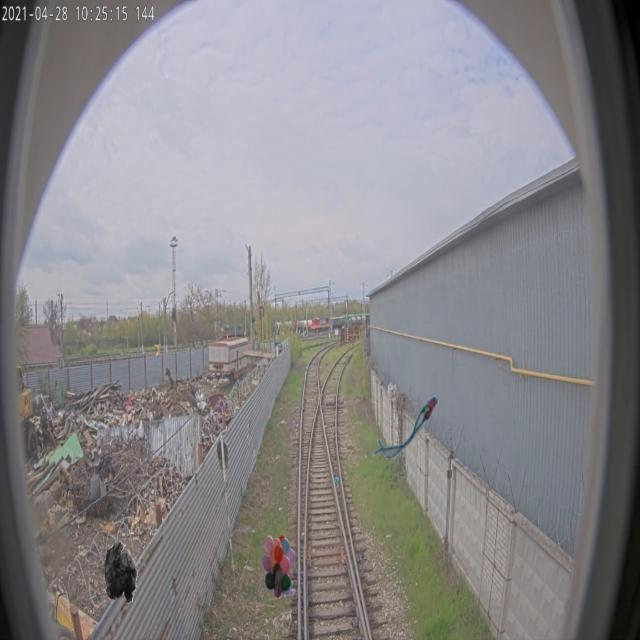balloon: (262, 534, 296, 598)
floating object: (372, 396, 440, 460)
plastic bag: (103, 540, 138, 604)
